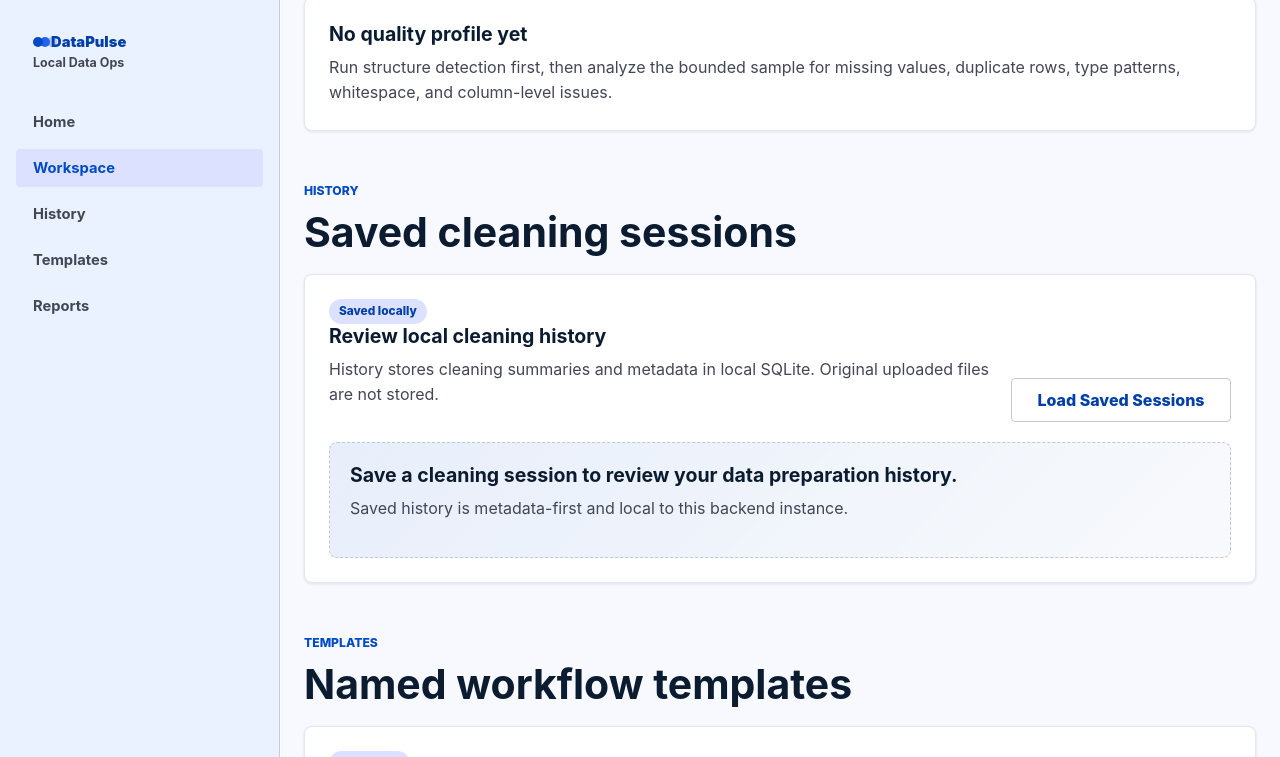
App › opens a saved HTML report from session detail
The width and height of the screenshot is (1280, 757).
(page scrolled)
Click the button "Load Saved Sessions" at (1121, 400), box x1=1011 y1=378 x2=1231 y2=422
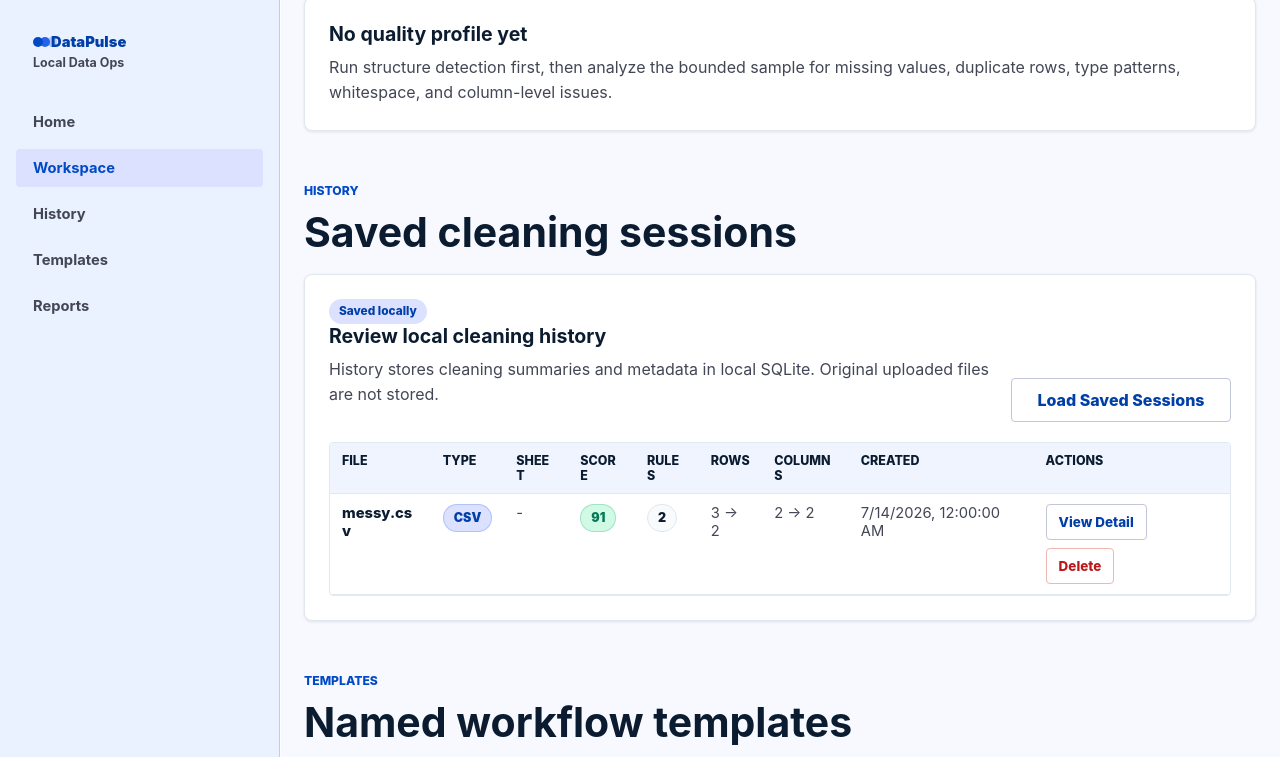
Now the button "View Detail" is shown
Click the button "View Detail" at (1096, 522), box x1=1046 y1=504 x2=1147 y2=540
(page scrolled)
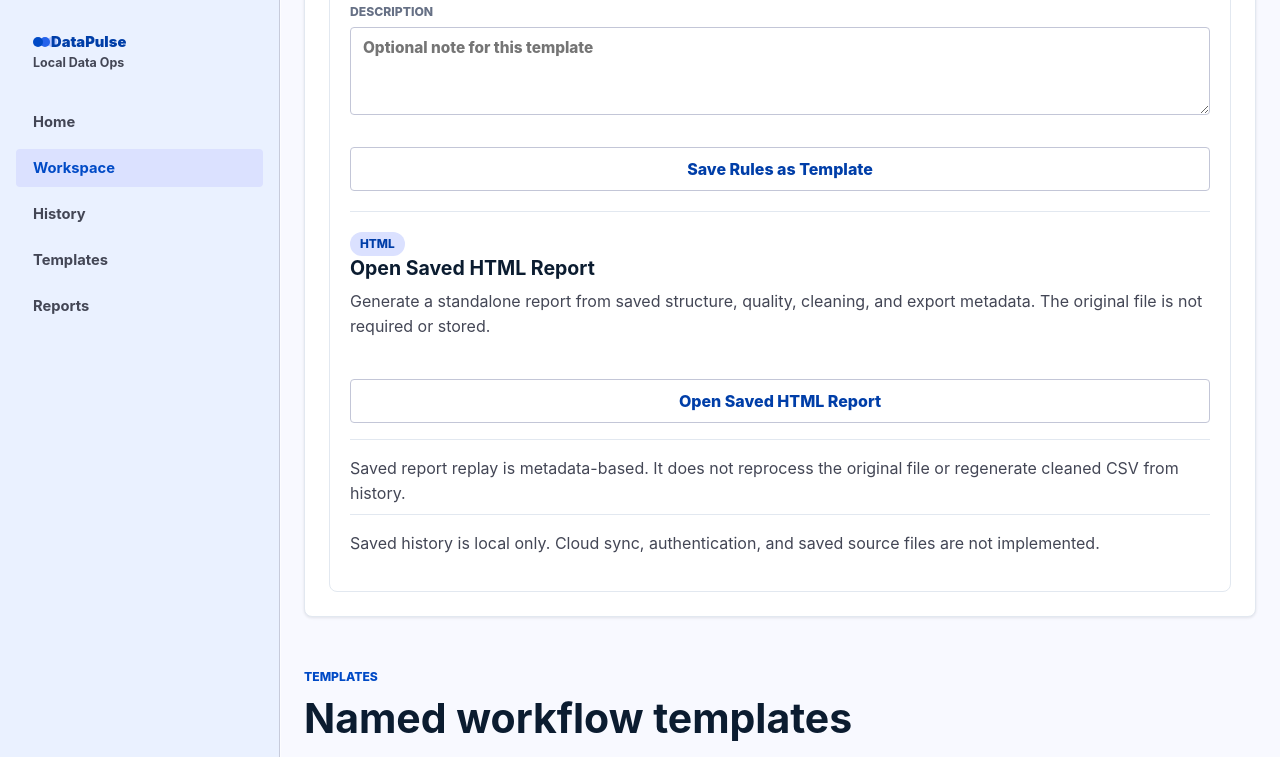
Now the button "Open Saved HTML Report" is shown
Click the button "Open Saved HTML Report" at (780, 401), box x1=350 y1=379 x2=1210 y2=423
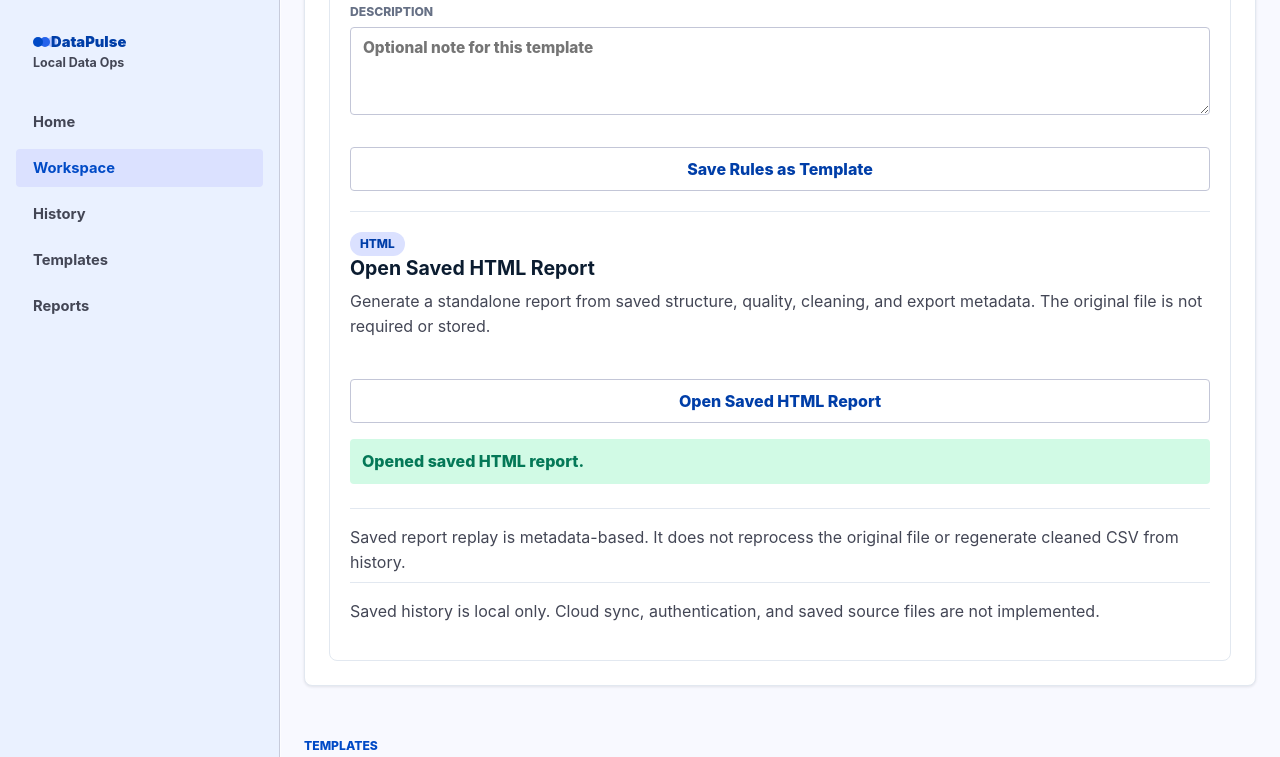
Now the text "Opened saved HTML report." is shown, box x1=350 y1=439 x2=1210 y2=484
